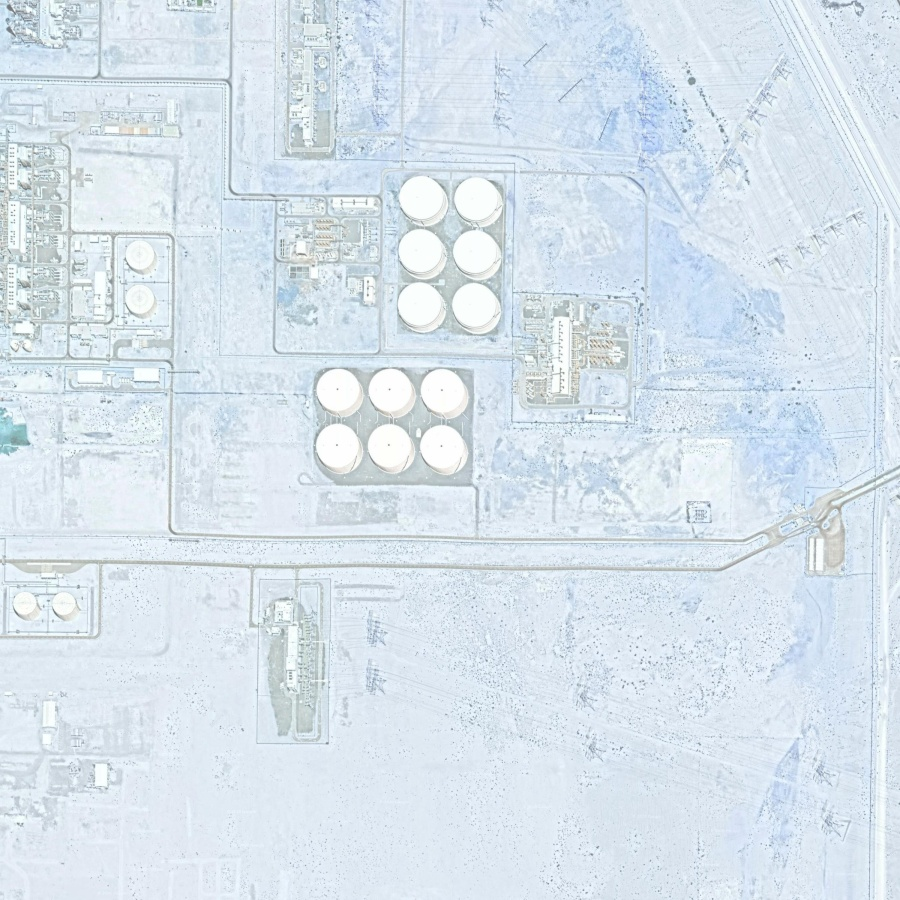PowerPlant: (253, 143, 633, 501)
